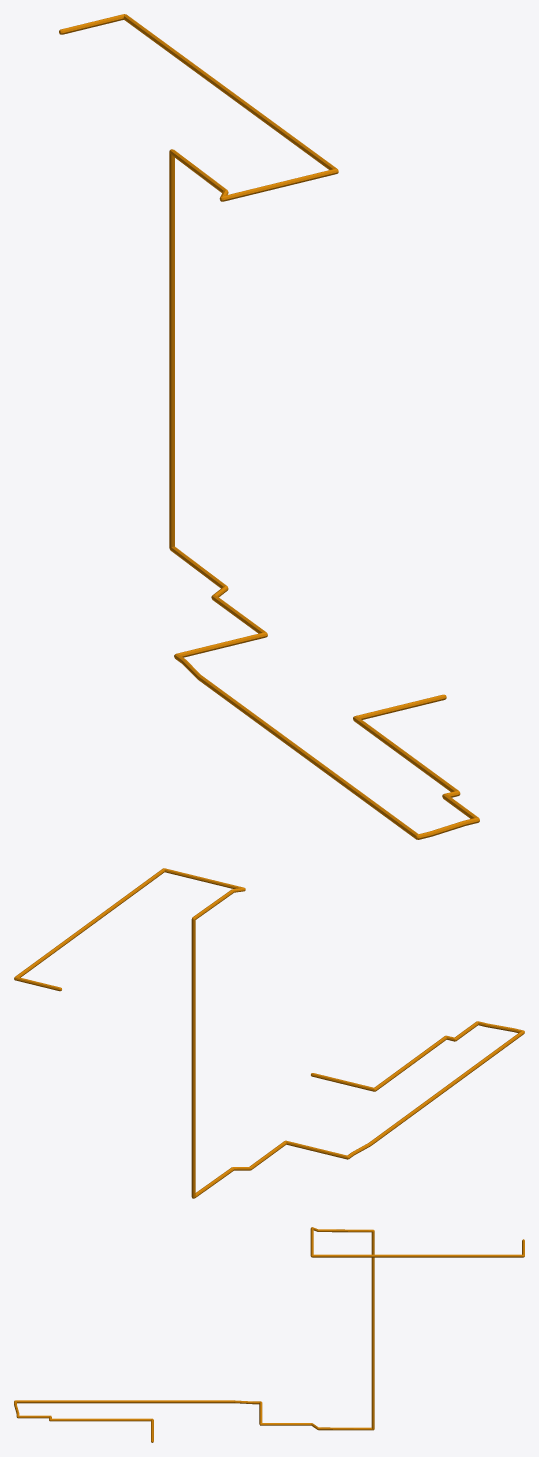
The picture shows the model from 3 angles, top to bottom: view 1: azimuth 30°, elevation 25°; view 2: azimuth 150°, elevation 25°; view 3: azimuth 270°, elevation 25°; orthographic projection. The views are drawn at different scales.
Bounding box in the file's own units: 871 × 1520 × 3507.
